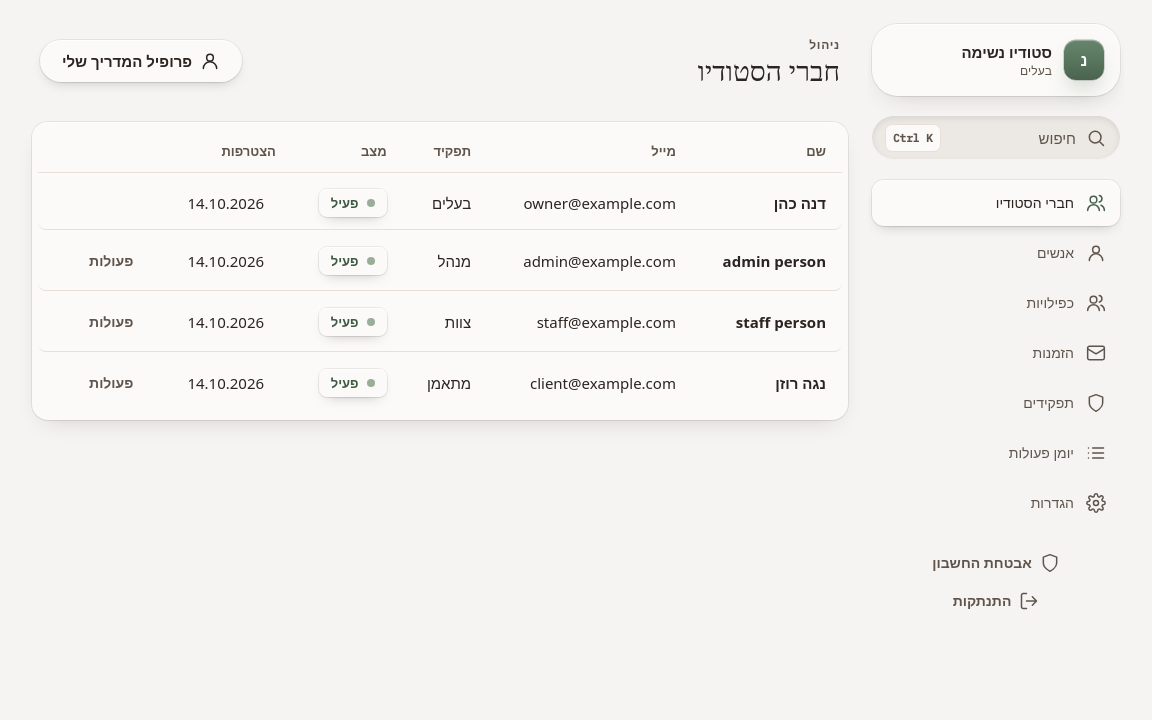
member actions › changes a role with PUT /roles and the row's version in If-Match
This screenshot has width=1152, height=720.
Click the button "פעולות" in the row of "נגה רוזן": click(111, 383) [67, 366, 155, 400]
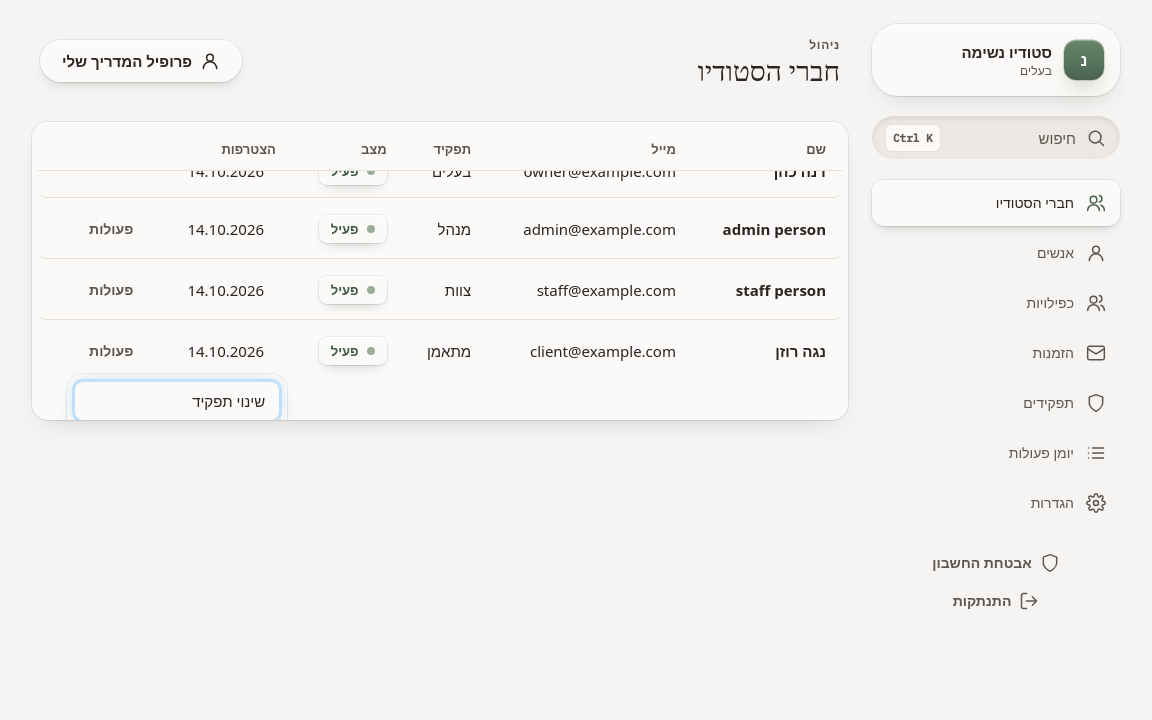
Click the menu item "שינוי תפקיד": click(177, 401) [75, 382, 279, 420]
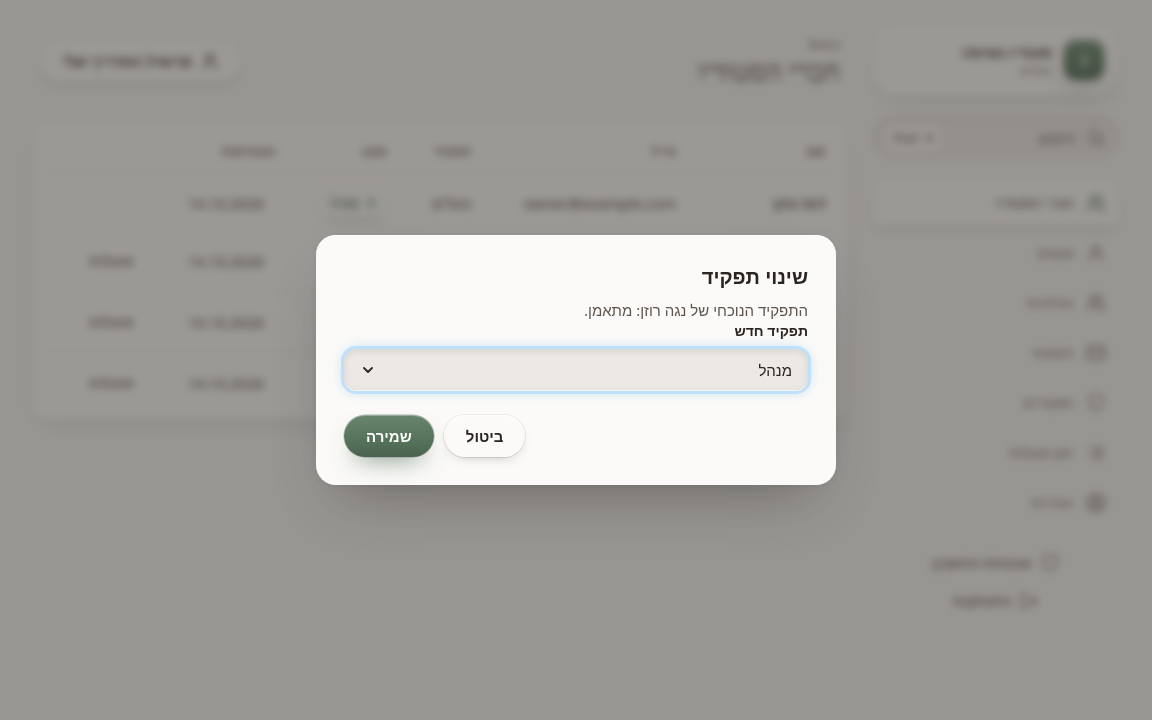
Select "צוות" in the dropdown labelled "תפקיד חדש": (576, 370) [344, 349, 808, 391]
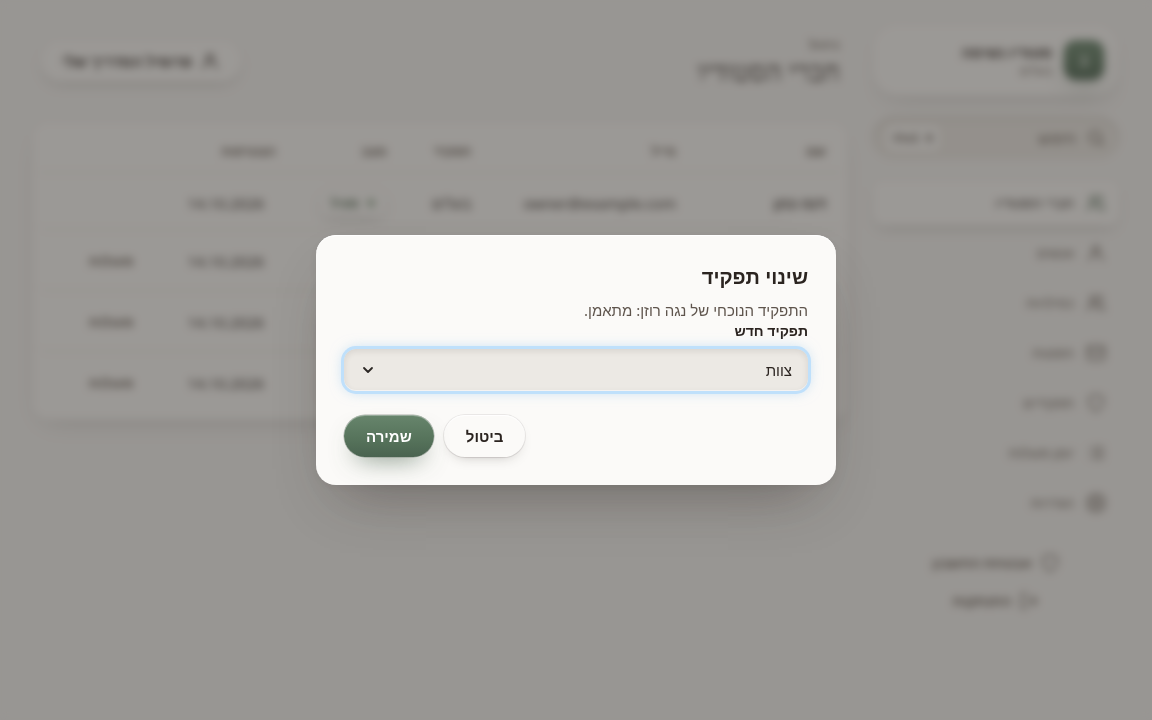
Click the button "שמירה": click(389, 436) [344, 415, 434, 457]
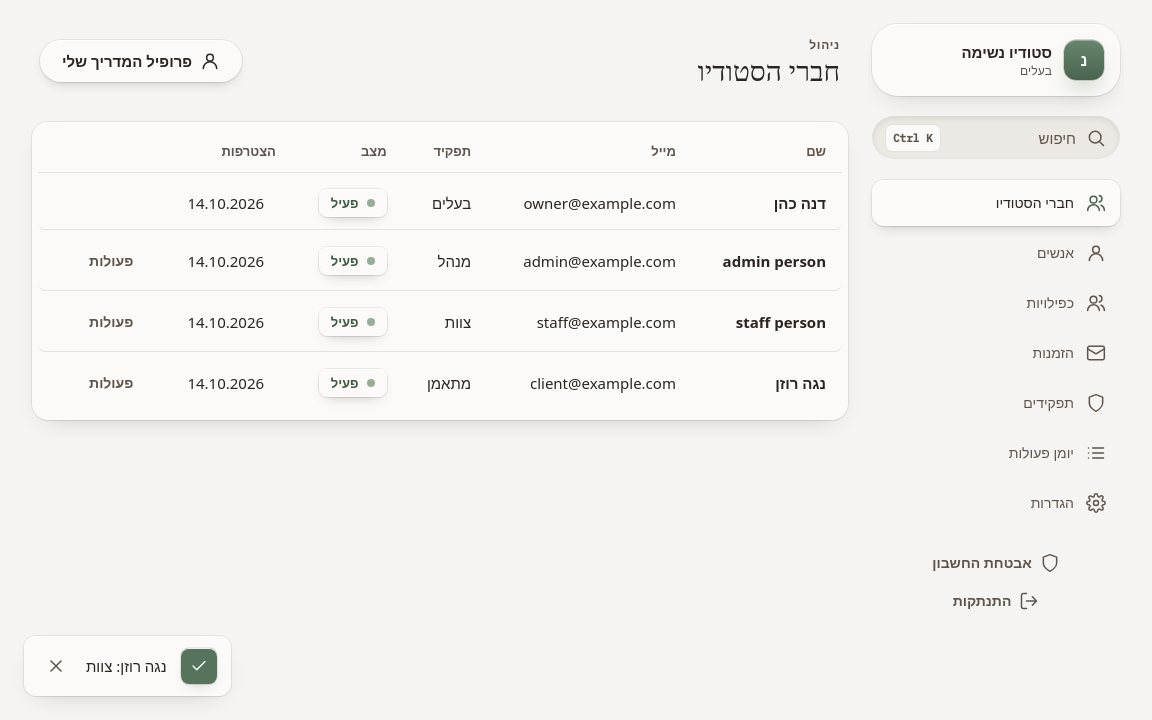
Result: the text "נגה רוזן: צוות" is shown at [86, 655, 166, 677]
